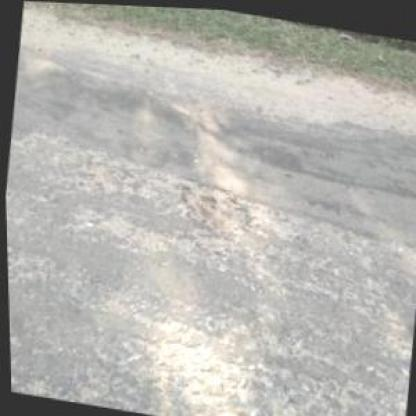pothole: (173, 172, 255, 236)
